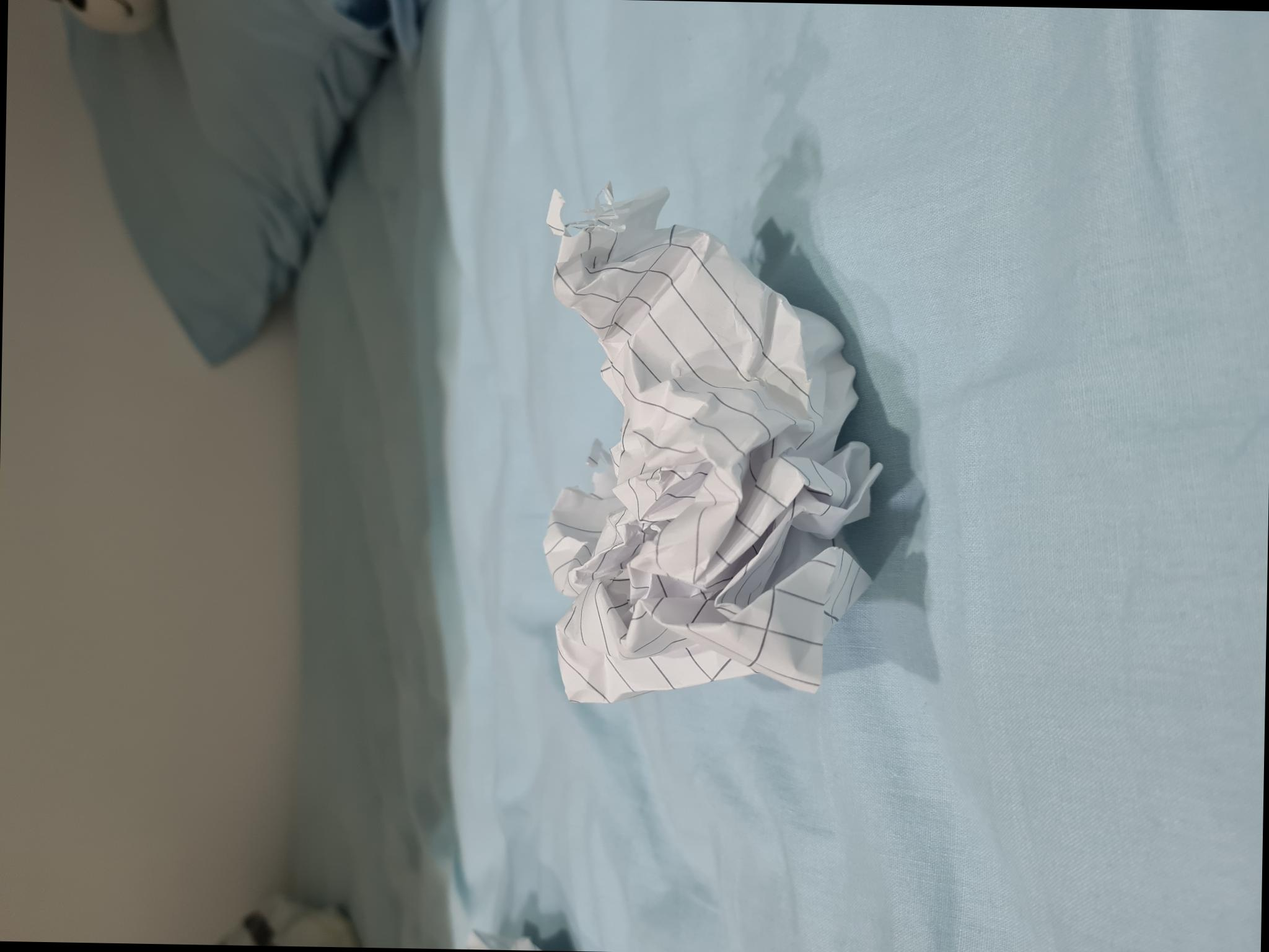Kertas: (247, 542, 761, 878)
